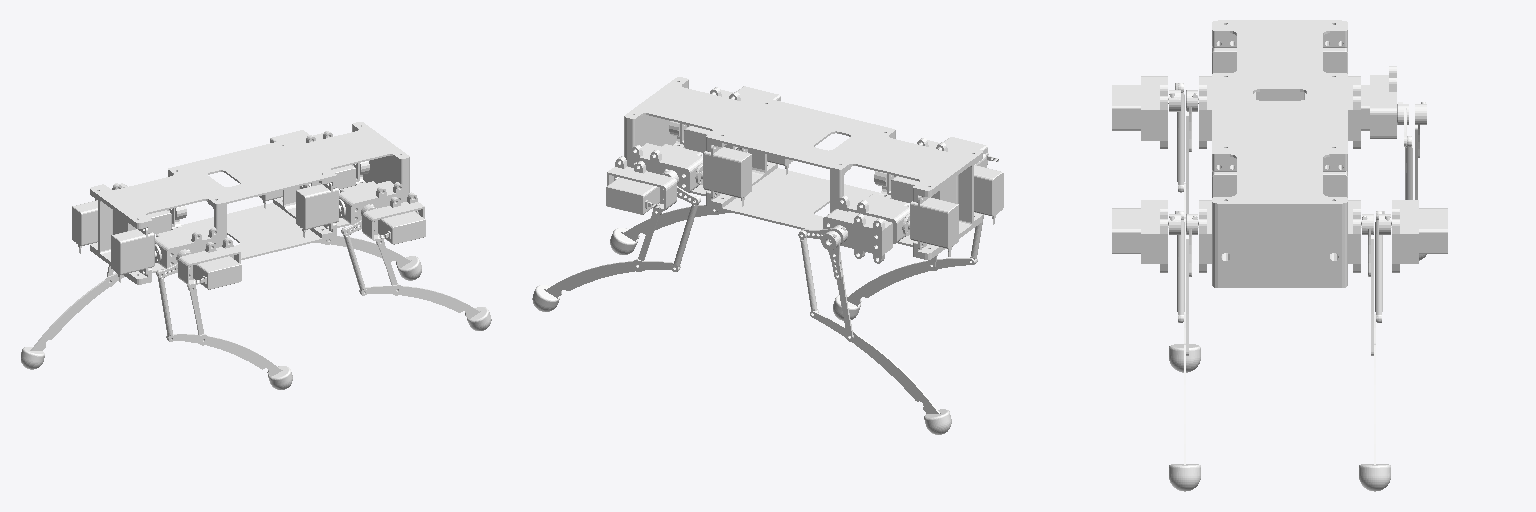
The robot description file, URDF, robot "urdf.SLDASM":
<?xml version="1.0" encoding="utf-8"?>
<!-- This URDF was automatically created by SolidWorks to URDF Exporter! Originally created by Stephen Brawner (brawner@gmail.com) 
     Commit Version: 1.6.0-4-g7f85cfe  Build Version: 1.6.7995.38578
     For more information, please see http://wiki.ros.org/sw_urdf_exporter -->
<robot
  name="urdf.SLDASM">
  <link
    name="base_link">
    <inertial>
      <origin
        xyz="1.08153612165799 1.08214835844246 1.06849746061429"
        rpy="0 0 0" />
      <mass
        value="0.515894415729789" />
      <inertia
        ixx="0.000281707930083893"
        ixy="-1.98158704211055E-07"
        ixz="1.1395986494052E-12"
        iyy="0.00109766801476333"
        iyz="2.19331815232263E-11"
        izz="0.000968895308541972" />
    </inertial>
    <visual>
      <origin
        xyz="0 0 0"
        rpy="0 0 0" />
      <geometry>
        <mesh
          filename="package://urdf.SLDASM/meshes/base_link.STL" />
      </geometry>
      <material
        name="">
        <color
          rgba="1 1 1 1" />
      </material>
    </visual>
    <collision>
      <origin
        xyz="0 0 0"
        rpy="0 0 0" />
      <geometry>
        <mesh
          filename="package://urdf.SLDASM/meshes/base_link.STL" />
      </geometry>
    </collision>
  </link>
  <link
    name="Link1">
    <inertial>
      <origin
        xyz="0.010723 0.0095107 0.025776"
        rpy="0 0 0" />
      <mass
        value="0.062321" />
      <inertia
        ixx="1.101E-05"
        ixy="9.7956E-08"
        ixz="-2.584E-06"
        iyy="2.0531E-05"
        iyz="-1.0607E-08"
        izz="1.9558E-05" />
    </inertial>
    <visual>
      <origin
        xyz="0 0 0"
        rpy="0 0 0" />
      <geometry>
        <mesh
          filename="package://urdf.SLDASM/meshes/Link1.STL" />
      </geometry>
      <material
        name="">
        <color
          rgba="1 1 1 1" />
      </material>
    </visual>
    <collision>
      <origin
        xyz="0 0 0"
        rpy="0 0 0" />
      <geometry>
        <mesh
          filename="package://urdf.SLDASM/meshes/Link1.STL" />
      </geometry>
    </collision>
  </link>
  <joint
    name="joint1"
    type="revolute">
    <origin
      xyz="0.98944 -1.1509 1.0768"
      rpy="3.1416 0 0" />
    <parent
      link="base_link" />
    <child
      link="Link1" />
    <axis
      xyz="0 0 0" />
    <limit
      lower="-3.14"
      upper="3.14"
      effort="100"
      velocity="1" />
  </joint>
  <link
    name="Link2">
    <inertial>
      <origin
        xyz="-0.025776 0.010723 0.0075107"
        rpy="0 0 0" />
      <mass
        value="0.062321" />
      <inertia
        ixx="1.9558E-05"
        ixy="2.584E-06"
        ixz="1.0607E-08"
        iyy="1.101E-05"
        iyz="9.7957E-08"
        izz="2.0531E-05" />
    </inertial>
    <visual>
      <origin
        xyz="0 0 0"
        rpy="0 0 0" />
      <geometry>
        <mesh
          filename="package://urdf.SLDASM/meshes/Link2.STL" />
      </geometry>
      <material
        name="">
        <color
          rgba="1 1 1 1" />
      </material>
    </visual>
    <collision>
      <origin
        xyz="0 0 0"
        rpy="0 0 0" />
      <geometry>
        <mesh
          filename="package://urdf.SLDASM/meshes/Link2.STL" />
      </geometry>
    </collision>
  </link>
  <joint
    name="joint2"
    type="revolute">
    <origin
      xyz="0.98944 -0.9841 1.0768"
      rpy="1.5708 -1.5708 0" />
    <parent
      link="base_link" />
    <child
      link="Link2" />
    <axis
      xyz="0 0 0" />
    <limit
      lower="-3.14"
      upper="3.14"
      effort="100"
      velocity="1" />
  </joint>
  <link
    name="Link3">
    <inertial>
      <origin
        xyz="0.0135165236377293 0.00951072390499719 0.0242437483614448"
        rpy="0 0 0" />
      <mass
        value="0.0623209022762895" />
      <inertia
        ixx="1.05012943344172E-05"
        ixy="9.67054556249075E-08"
        ixz="-2.51032314319484E-06"
        iyy="2.05307409709613E-05"
        iyz="-9.05368198723649E-09"
        izz="2.00664505317877E-05" />
    </inertial>
    <visual>
      <origin
        xyz="0 0 0"
        rpy="0 0 0" />
      <geometry>
        <mesh
          filename="package://urdf.SLDASM/meshes/Link3.STL" />
      </geometry>
      <material
        name="">
        <color
          rgba="1 1 1 1" />
      </material>
    </visual>
    <collision>
      <origin
        xyz="0 0 0"
        rpy="0 0 0" />
      <geometry>
        <mesh
          filename="package://urdf.SLDASM/meshes/Link3.STL" />
      </geometry>
    </collision>
  </link>
  <joint
    name="joint3"
    type="revolute">
    <origin
      xyz="1.2054 -1.1509 1.0768"
      rpy="3.1416 0 0" />
    <parent
      link="base_link" />
    <child
      link="Link3" />
    <axis
      xyz="0 0 0" />
    <limit
      lower="-3.14"
      upper="3.14"
      effort="100"
      velocity="1" />
  </joint>
  <link
    name="Link4">
    <inertial>
      <origin
        xyz="0.0135165234338304 0.00951072348741988 -0.0242437482488531"
        rpy="0 0 0" />
      <mass
        value="0.062320902847455" />
      <inertia
        ixx="1.05012944451633E-05"
        ixy="9.67059467770656E-08"
        ixz="2.51032306616171E-06"
        iyy="2.05307410443477E-05"
        iyz="9.05383176691706E-09"
        izz="2.00664505192476E-05" />
    </inertial>
    <visual>
      <origin
        xyz="0 0 0"
        rpy="0 0 0" />
      <geometry>
        <mesh
          filename="package://urdf.SLDASM/meshes/Link4.STL" />
      </geometry>
      <material
        name="">
        <color
          rgba="1 1 1 1" />
      </material>
    </visual>
    <collision>
      <origin
        xyz="0 0 0"
        rpy="0 0 0" />
      <geometry>
        <mesh
          filename="package://urdf.SLDASM/meshes/Link4.STL" />
      </geometry>
    </collision>
  </link>
  <joint
    name="joint4"
    type="revolute">
    <origin
      xyz="1.2054 -0.9861 1.0768"
      rpy="0 0 0" />
    <parent
      link="base_link" />
    <child
      link="Link4" />
    <axis
      xyz="0 0 0" />
    <limit
      lower="-3.14"
      upper="3.14"
      effort="100"
      velocity="1" />
  </joint>
</robot>

--- Facts derived from the render (not from the file) ---
The picture shows the robot from 3 angles, left to right: view 1: azimuth 30°, elevation 25°; view 2: azimuth 150°, elevation 25°; view 3: azimuth 270°, elevation 25°; orthographic projection.
Robot: urdf.SLDASM — 5 links, 4 joints (4 revolute); root link base_link; default pose: all joints at 0.
Visible links, largest first — view 1: base_link, Link1, Link3, Link4, Link2; view 2: base_link, Link2, Link4, Link1, Link3; view 3: base_link, Link3, Link4, Link1, Link2.
Boxes of the visible links, left/top/right/bottom form: base_link: left=72, top=122, right=409, bottom=284; Link1: left=156, top=237, right=292, bottom=389; Link3: left=341, top=192, right=491, bottom=330; Link4: left=270, top=130, right=421, bottom=280; Link2: left=21, top=183, right=127, bottom=369; base_link: left=624, top=77, right=1003, bottom=259; Link2: left=798, top=209, right=951, bottom=434; Link4: left=532, top=156, right=700, bottom=311; Link1: left=833, top=137, right=998, bottom=320; Link3: left=610, top=86, right=780, bottom=254; base_link: left=1198, top=20, right=1361, bottom=287; Link3: left=1112, top=200, right=1200, bottom=491; Link4: left=1359, top=200, right=1447, bottom=491; Link1: left=1112, top=76, right=1200, bottom=372; Link2: left=1361, top=66, right=1426, bottom=260.
Bounding box of the posed robot: 0.4503 × 0.2488 × 0.2131 m (x, y, z).
5 mesh visuals loaded from 5 distinct referenced files (5 binary STL).
